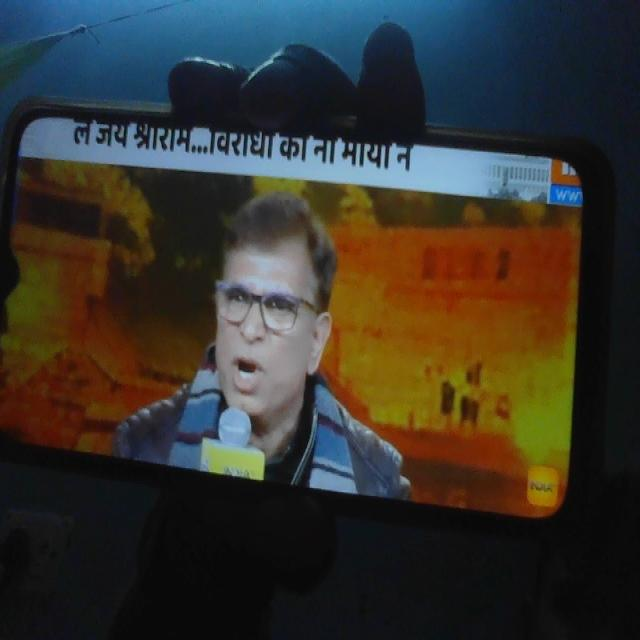fake: (195, 178, 333, 438)
